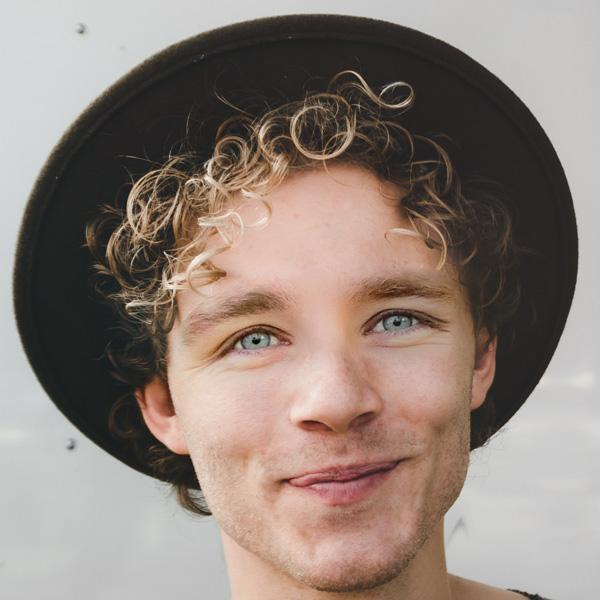Eyes: (345, 292, 454, 358), (212, 311, 302, 372)
